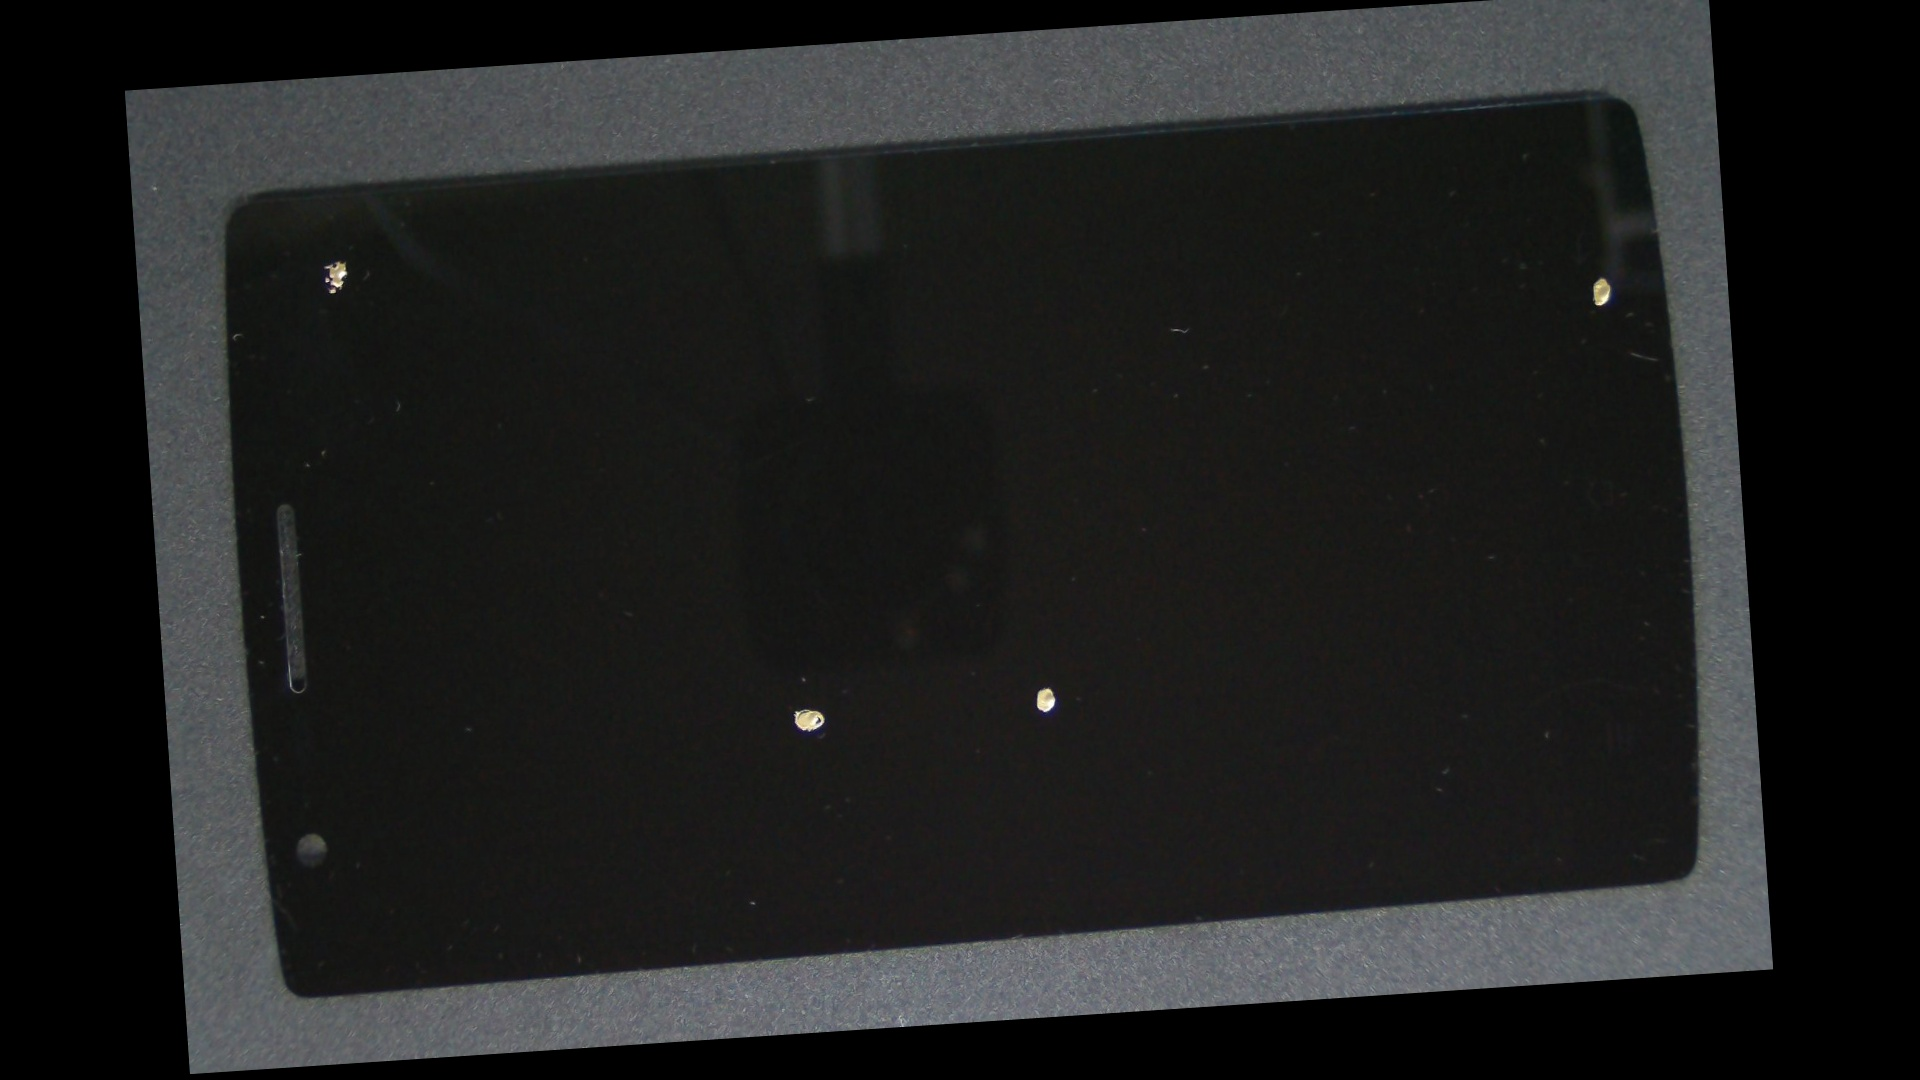oil: (585, 330, 1505, 1043), (465, 357, 1143, 1054), (862, 127, 1737, 467), (231, 162, 442, 359)
